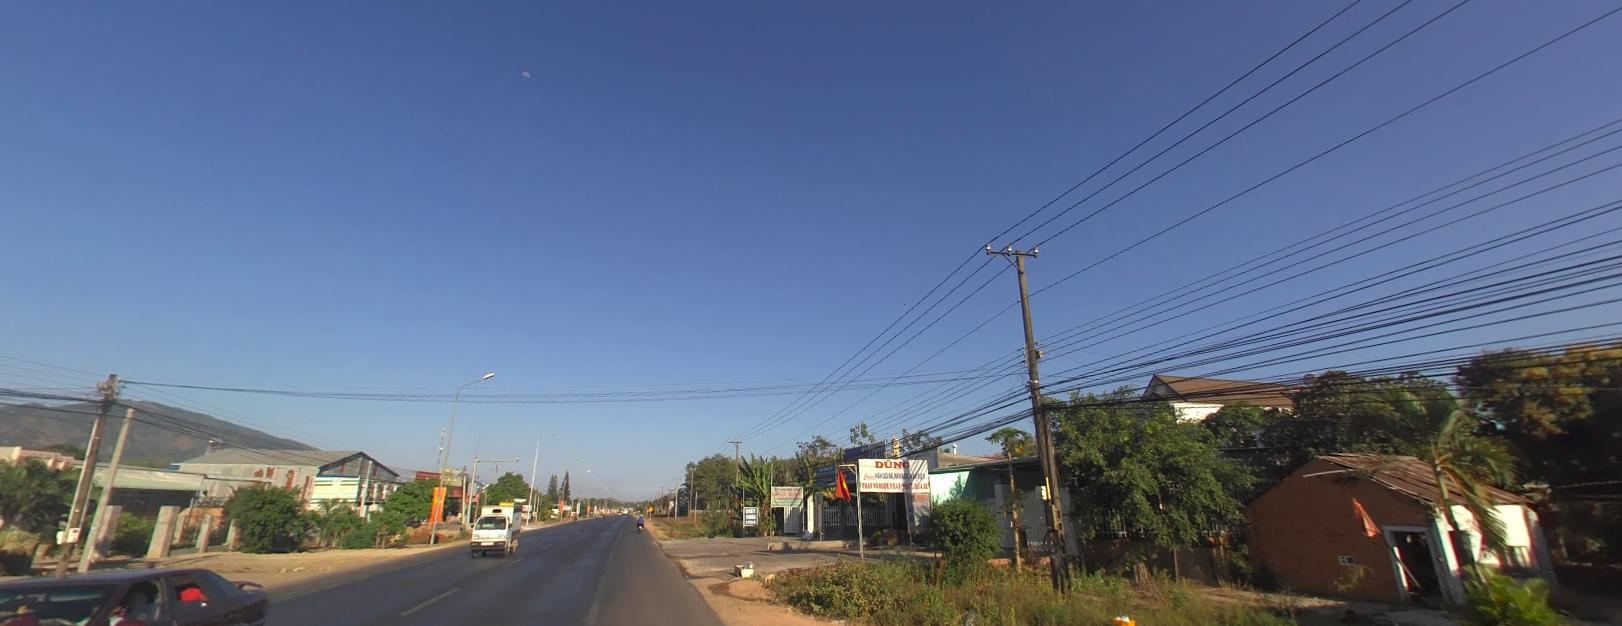Nguy hiem: (645, 505, 654, 511)
